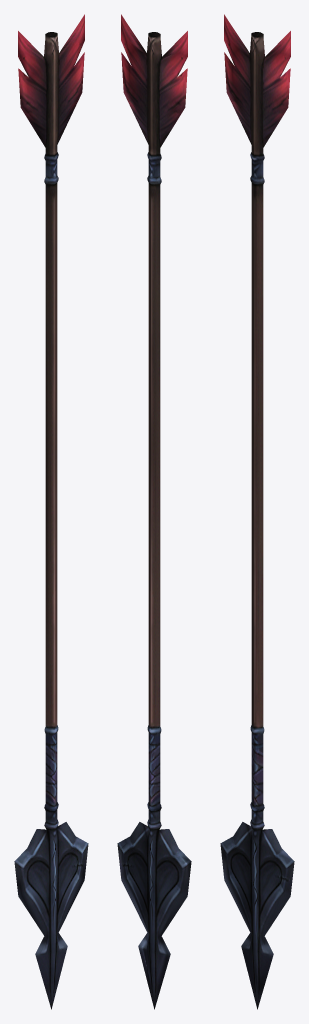
Rendered from Arrow.glb.
3 renders of one model, left to right at view 1: azimuth 30°, elevation 25°; view 2: azimuth 150°, elevation 25°; view 3: azimuth 330°, elevation 25°, orthographic.
Visible parts, largest first — view 1: Arrow; view 2: Arrow; view 3: Arrow.
Boxes of the visible parts, bbox=[...] form: Arrow: bbox=[14, 14, 88, 1009]; Arrow: bbox=[117, 14, 191, 1009]; Arrow: bbox=[220, 14, 294, 1009].
Bounding box in the file's own units: 3.7 × 47.08 × 0.6667.
Materials: 1 (1 with a texture image).
